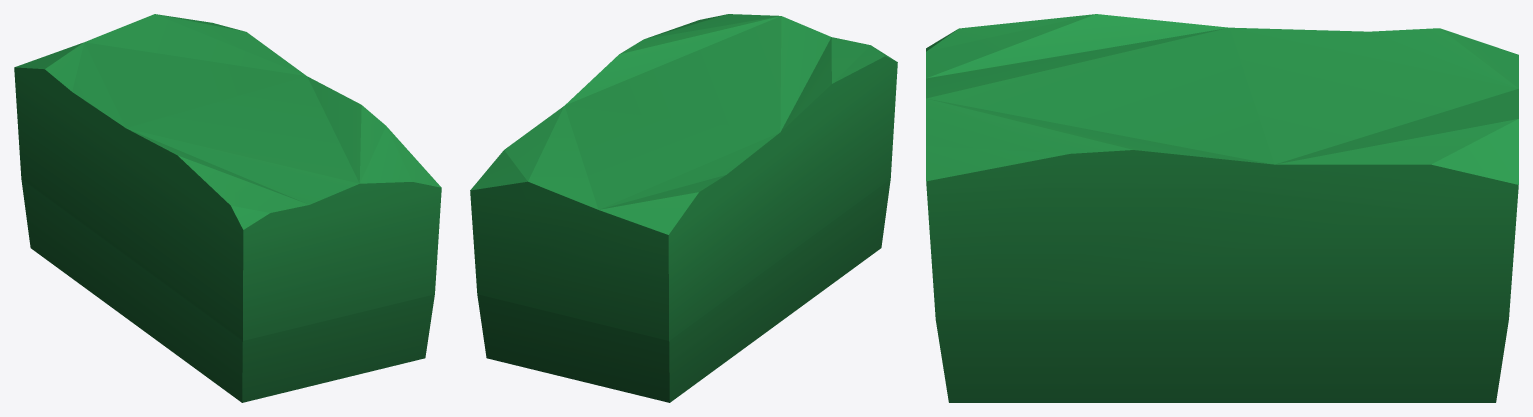
The model's file is bush_straight.glb.
3 renders of one model, left to right at view 1: azimuth 30°, elevation 25°; view 2: azimuth 150°, elevation 25°; view 3: azimuth 270°, elevation 25°, orthographic. The views are drawn at different scales.
Parts seen in each view (by area): view 1: Cube.008; view 2: Cube.008; view 3: Cube.008.
Part boxes in pixels (left/top/right/bottom): Cube.008: left=14, top=14, right=441, bottom=402; Cube.008: left=470, top=14, right=897, bottom=402; Cube.008: left=926, top=14, right=1518, bottom=402.
Size of the model in its own units: 2 by 2 by 4.
Materials: 1 (1 with a texture image).
